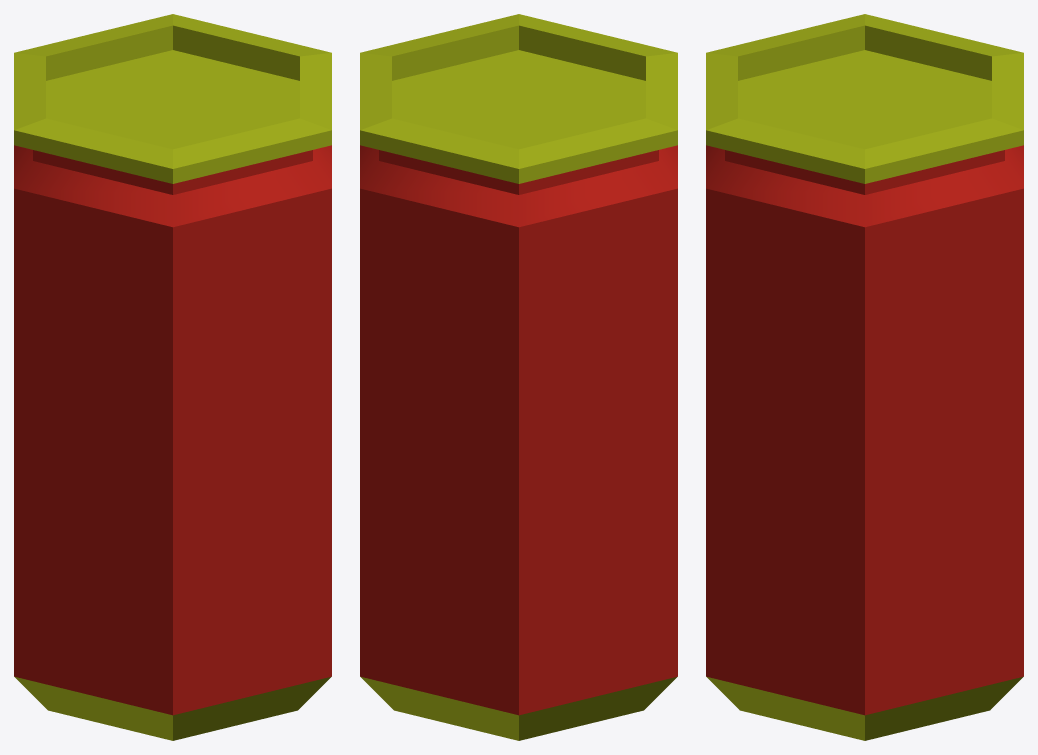
File: coke.fbx
The picture shows the model from 3 angles, left to right: view 1: azimuth 30°, elevation 25°; view 2: azimuth 150°, elevation 25°; view 3: azimuth 270°, elevation 25°; orthographic projection.
Parts seen in each view (by area): view 1: MESH_Coke; view 2: MESH_Coke; view 3: MESH_Coke.
Part boxes in pixels (bbox=[...]): MESH_Coke: bbox=[14, 14, 331, 740]; MESH_Coke: bbox=[360, 14, 677, 740]; MESH_Coke: bbox=[706, 14, 1023, 740].
Bounding box in the file's own units: 0.0742 × 0.1322 × 0.0642.
